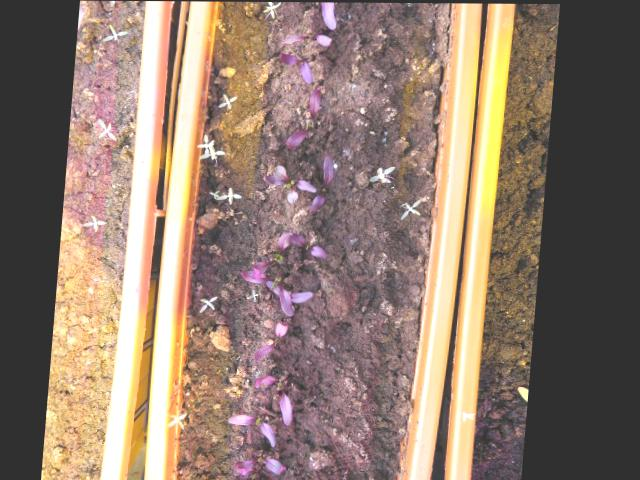weed: (400, 196, 429, 223), (95, 117, 123, 144), (80, 213, 112, 236), (367, 164, 400, 186), (99, 23, 132, 45), (258, 2, 284, 23), (199, 294, 226, 314), (170, 412, 198, 431), (216, 90, 240, 112), (96, 1, 128, 10), (248, 289, 266, 304)
